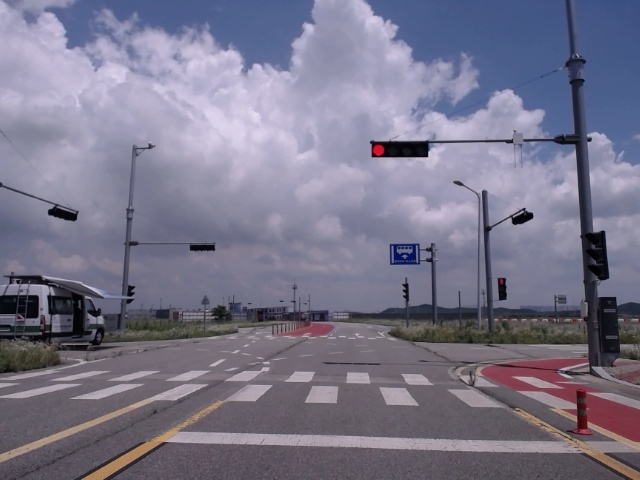red_4: (370, 141, 430, 158)
